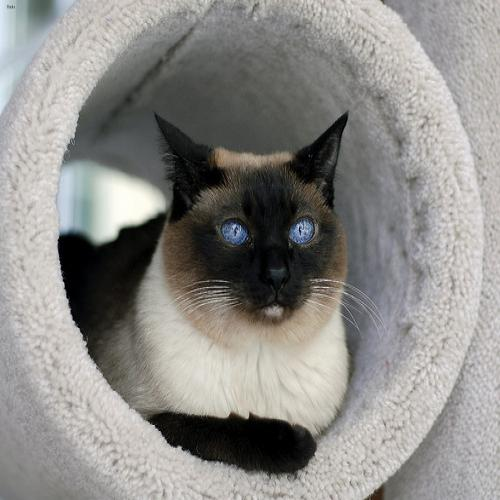siamese: (149, 100, 370, 345)
